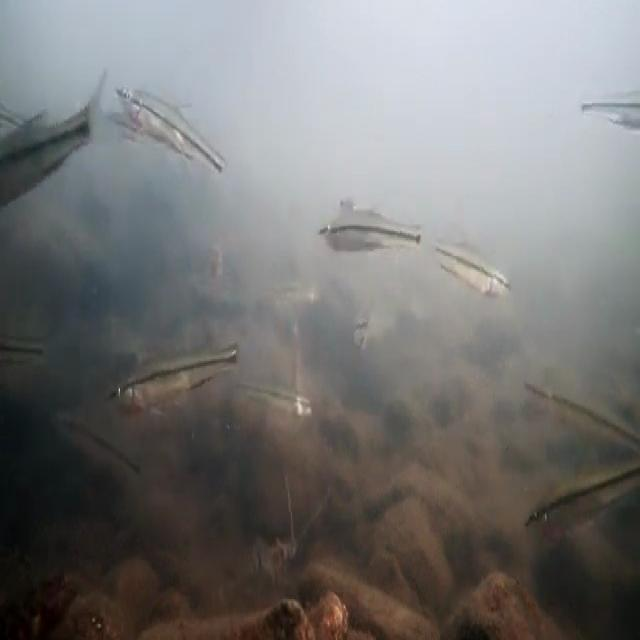Cakil Baligi: (114, 74, 230, 182), (106, 334, 241, 419), (316, 195, 426, 261)
